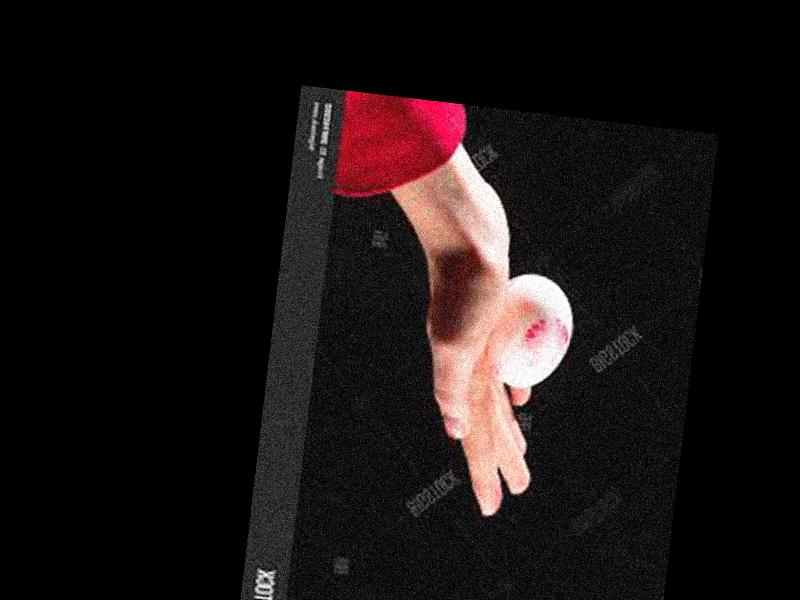Eggs: (490, 269, 579, 389)
